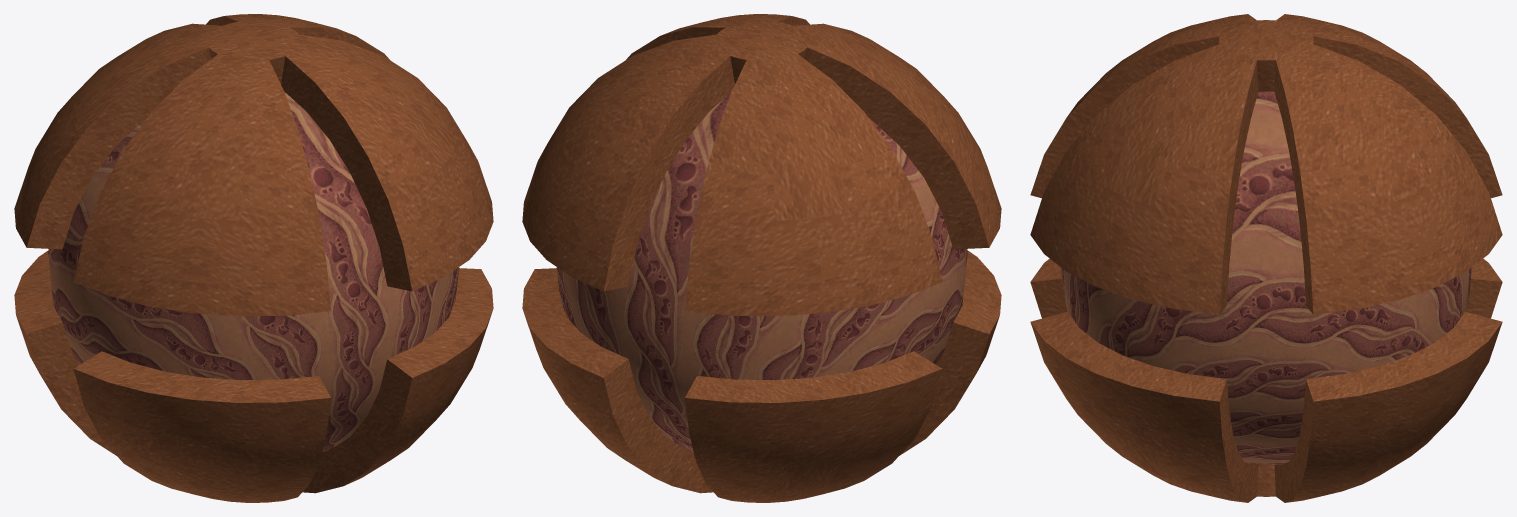
File: gravityswitch.glb
3 views of the same model, side by side, from view 1: azimuth 30°, elevation 25°; view 2: azimuth 150°, elevation 25°; view 3: azimuth 270°, elevation 25° (orthographic).
Parts seen in each view (by area): view 1: gravityswitch; view 2: gravityswitch; view 3: gravityswitch.
Part boxes in pixels (x1=…): gravityswitch: x1=14, y1=14, x2=493, y2=502; gravityswitch: x1=522, y1=14, x2=1001, y2=502; gravityswitch: x1=1030, y1=14, x2=1502, y2=502.
Bounding box in the file's own units: 1.11 × 1.15 × 1.11.
Materials: 2 (2 with a texture image).
